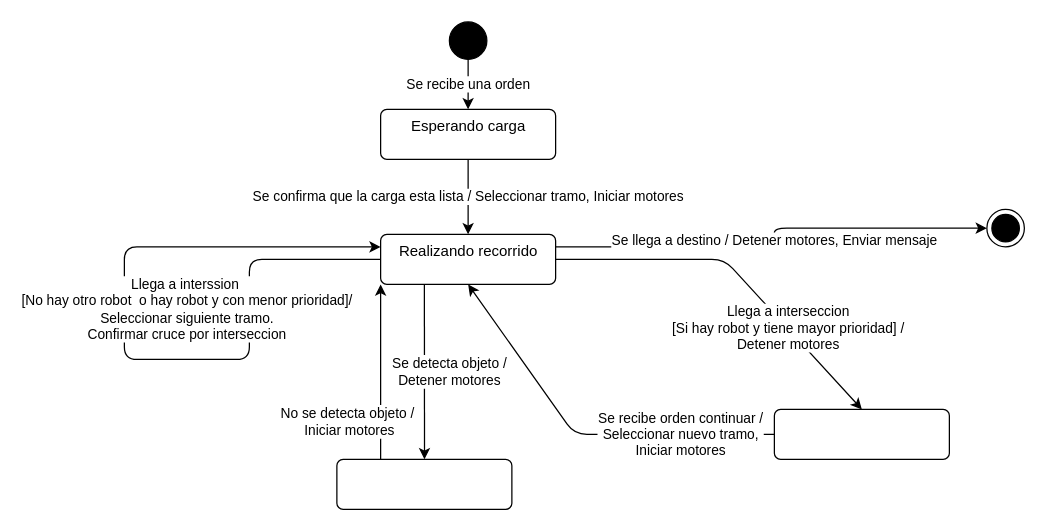
The diagram is 1046 pixels wide and 531 high, and some of its shapes have lost their labels. Here are the shapes that lost their labels. From the top down, the centre of each, then its label:
(x=861, y=433): Esperando a cruzar
(x=424, y=483): Esperando no detectar objeto
